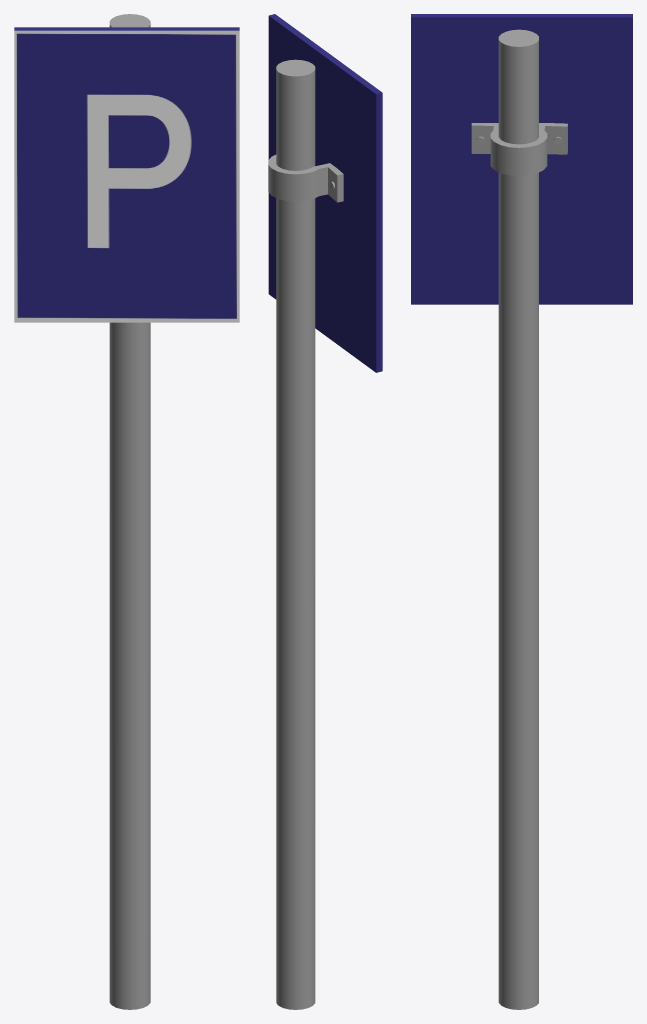
Rendered from parkschild__parking_sign.glb.
The picture shows the model from 3 angles, left to right: view 1: azimuth 90°, elevation 25°; view 2: azimuth 210°, elevation 25°; view 3: azimuth 270°, elevation 25°; orthographic projection. The views are drawn at different scales.
Visible parts, largest first — view 1: Box001, Cylinder001; view 2: Cylinder001, Box001; view 3: Box001, Cylinder001.
Part boxes in pixels (box(x1,y1,x2,y2)): Box001: box(14, 27, 239, 322); Cylinder001: box(109, 14, 150, 1009); Cylinder001: box(268, 59, 343, 1009); Box001: box(268, 14, 382, 372); Box001: box(411, 14, 632, 304); Cylinder001: box(471, 29, 567, 1009).
Size of the model in its own units: 4.01 by 64.5 by 13.36.
Materials: 2 (1 with a texture image).
